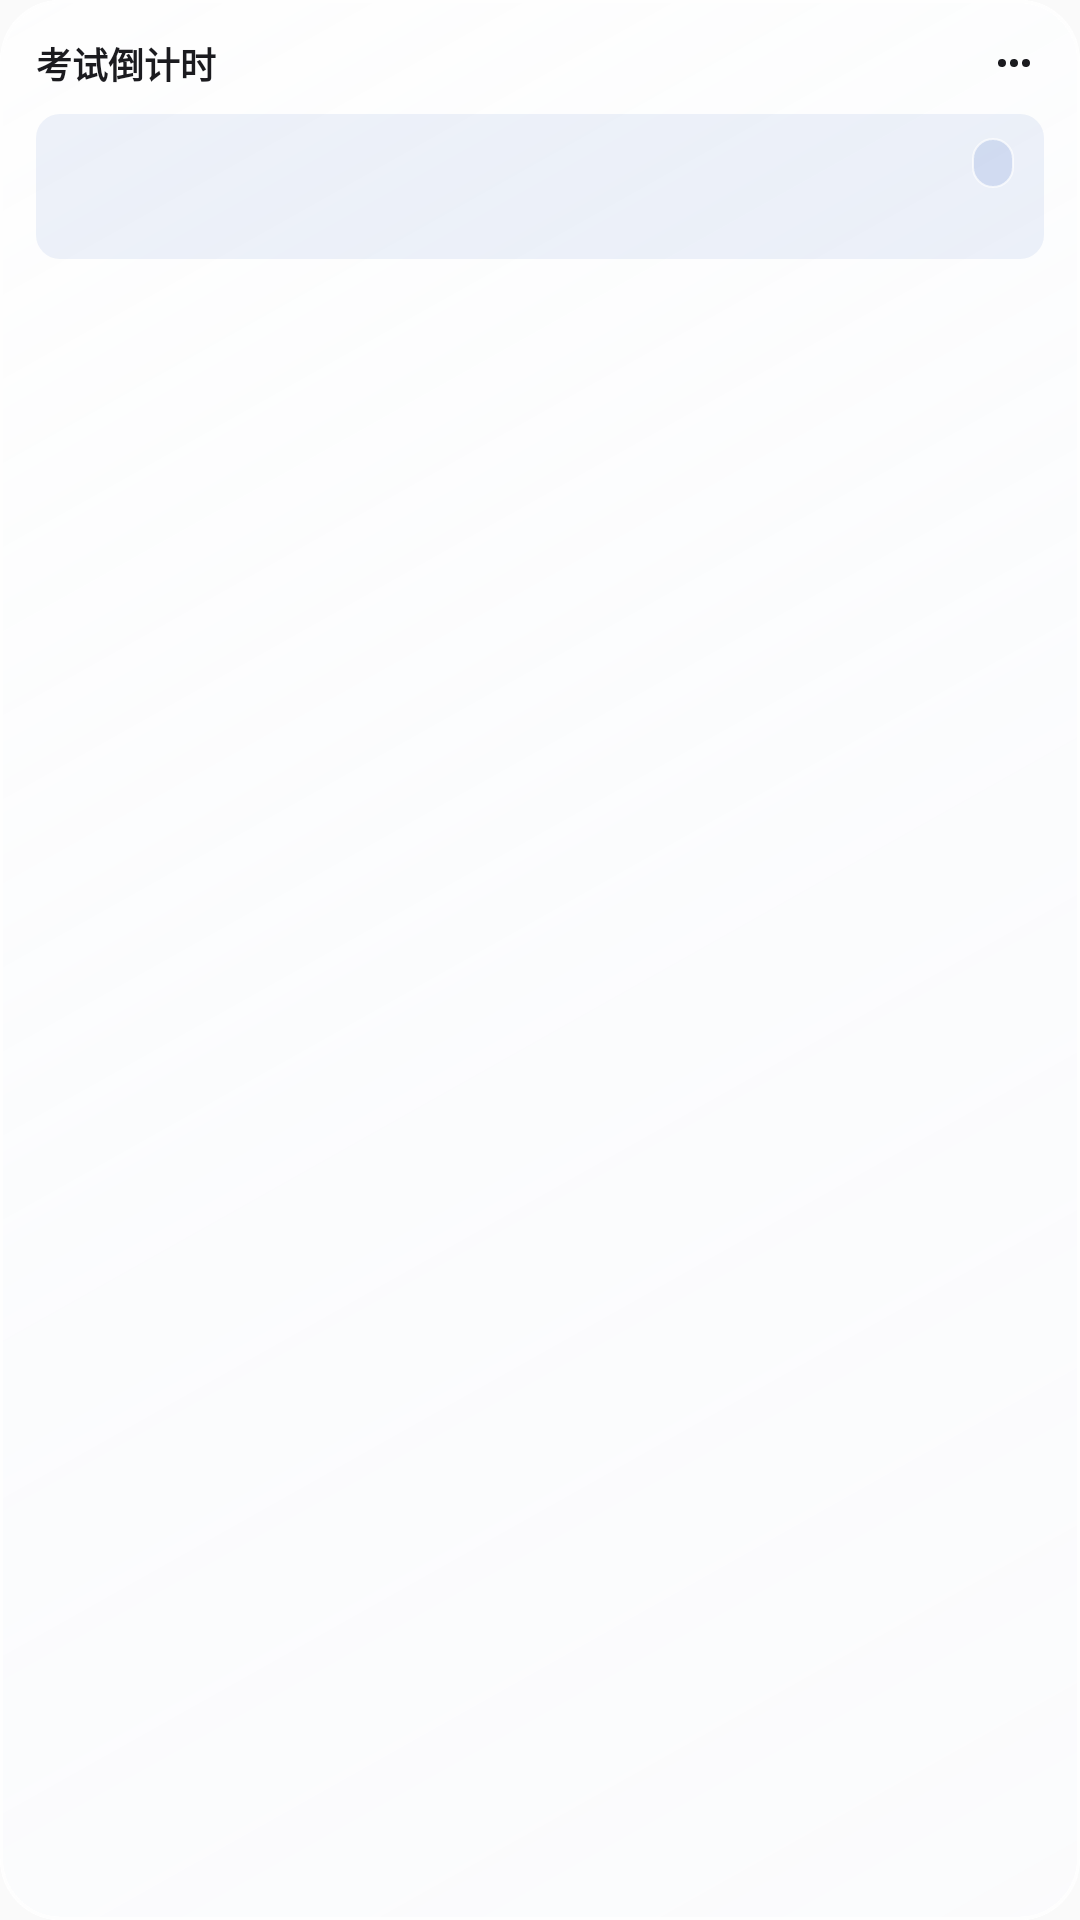

Screen size 1080 x 1920. Icon name, then its box in pixels as {"x1": x1, "y1": y1, "x2": x2, "y2": y2}:
组件设置: {"x1": 998, "y1": 59, "x2": 1030, "y2": 67}
